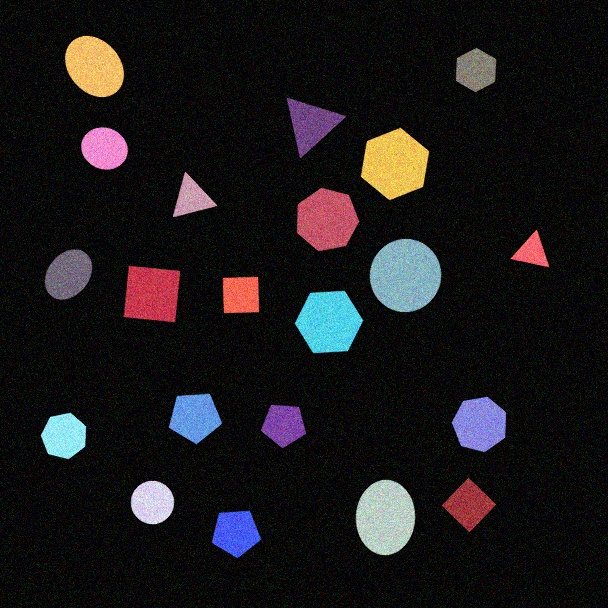Circulo: (369, 238, 442, 313), (80, 127, 129, 170), (130, 480, 175, 525)
Elipse: (355, 479, 416, 556), (64, 35, 125, 98), (44, 249, 93, 300)
Heptagono: (296, 187, 360, 252), (451, 396, 507, 453), (40, 412, 87, 460)
Hexagono: (360, 127, 430, 201), (294, 290, 364, 354), (455, 47, 497, 93)
Pentagono: (168, 393, 223, 445), (211, 510, 262, 559), (260, 404, 307, 449)
Quadrado: (123, 265, 181, 323), (441, 477, 497, 533), (222, 276, 260, 314)
Triangulo: (286, 97, 347, 159), (172, 172, 218, 218), (510, 230, 550, 268)
